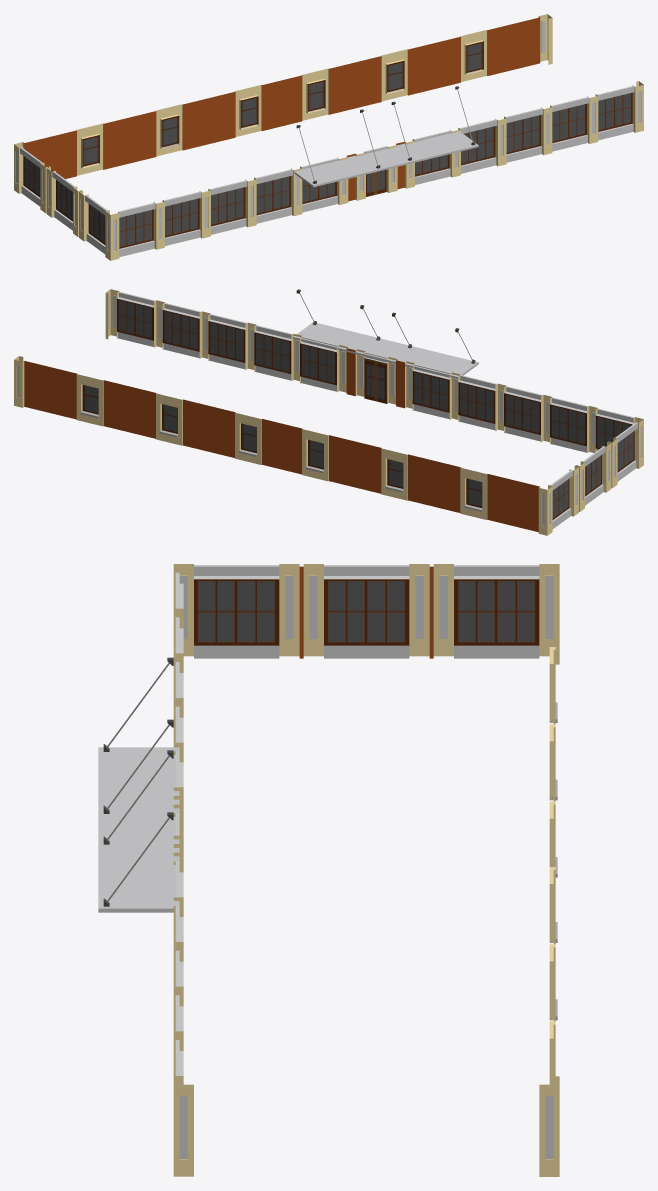
The model's file is BuildingSmall3_1.fbx.
3 renders of one model, top to bottom at view 1: azimuth 30°, elevation 25°; view 2: azimuth 150°, elevation 25°; view 3: azimuth 270°, elevation 25°, orthographic. The views are drawn at different scales.
Visible parts, largest first — view 1: BuildingSmall3_1; view 2: BuildingSmall3_1; view 3: BuildingSmall3_1.
Part boxes in pixels (x1,y1,x2,y2): BuildingSmall3_1: (14, 14, 643, 260); BuildingSmall3_1: (14, 289, 643, 535); BuildingSmall3_1: (98, 564, 559, 1176).
Size of the model in its own units: 6061 by 978 by 2270.
